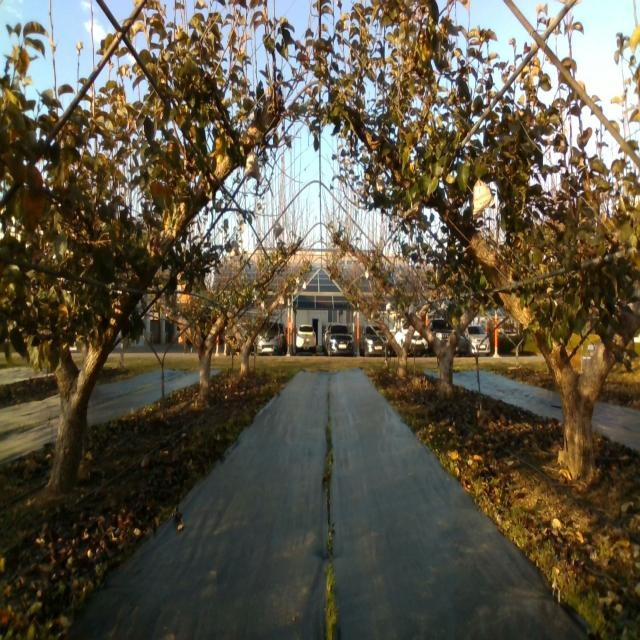pearbags: (472, 179, 495, 218), (244, 151, 260, 182), (273, 220, 283, 239)
